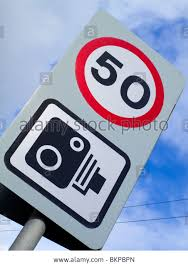Speed_limit_50km: (76, 37, 166, 126)
